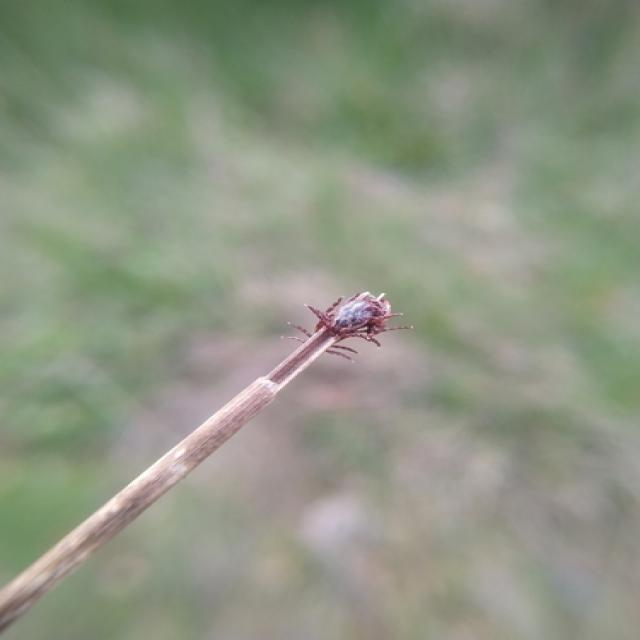Dermacentor Reticulatus-M: (307, 292, 401, 348)
